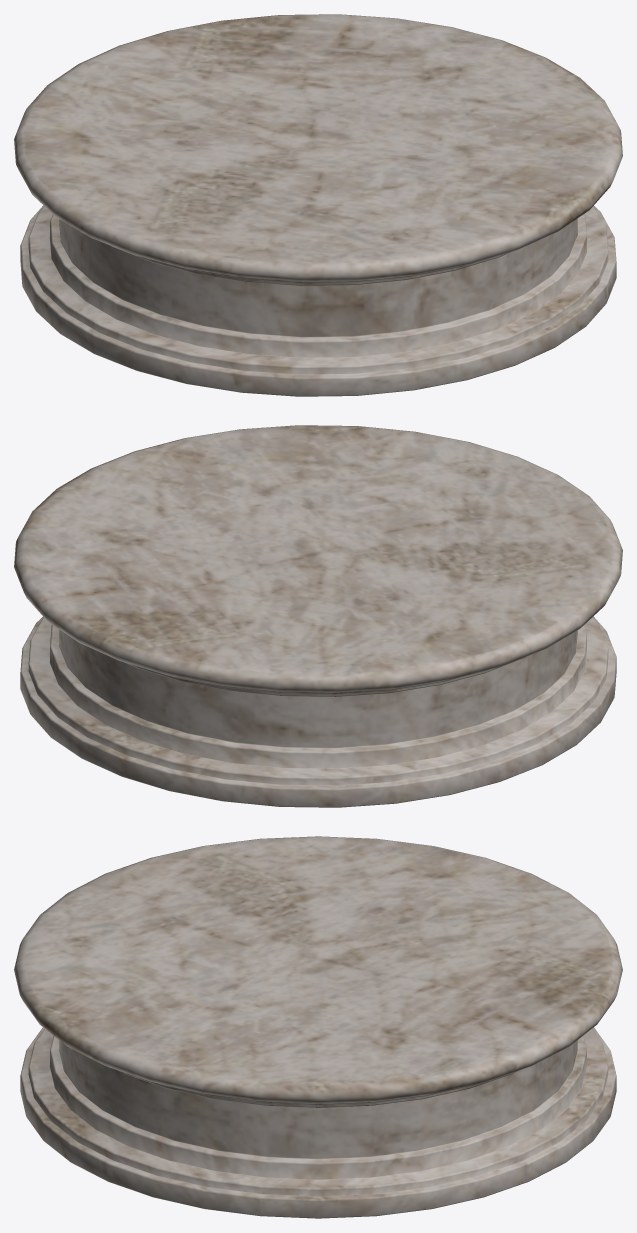
File: StatueStand_C.fbx
3 renders of one model, top to bottom at view 1: azimuth 30°, elevation 25°; view 2: azimuth 150°, elevation 25°; view 3: azimuth 270°, elevation 25°, orthographic.
Visible parts, largest first — view 1: StatueStand_C; view 2: StatueStand_C; view 3: StatueStand_C.
Boxes of the visible parts, x1,y1,x2,y2 form: StatueStand_C: (14,14,622,396); StatueStand_C: (14,425,622,807); StatueStand_C: (14,836,622,1218).
Bounding box in the file's own units: 5.7 × 1.36 × 5.7.
